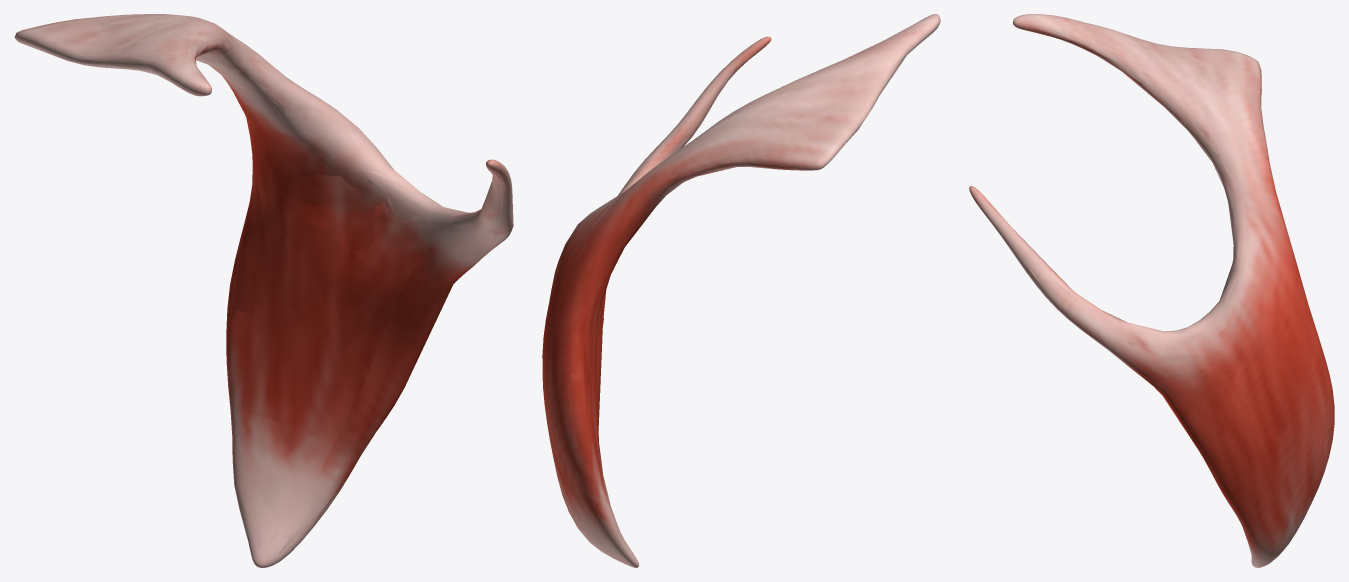
The model's file is L Gluteus Superficialis.fbx.
3 renders of one model, left to right at view 1: azimuth 30°, elevation 25°; view 2: azimuth 150°, elevation 25°; view 3: azimuth 270°, elevation 25°, orthographic. The views are drawn at different scales.
Parts seen in each view (by area): view 1: L Gluteus Superficialis, L Gluteus Superficialis low; view 2: L Gluteus Superficialis, L Gluteus Superficialis low; view 3: L Gluteus Superficialis, L Gluteus Superficialis low.
Part boxes in pixels (x1,y1,x2,y2): L Gluteus Superficialis: (14, 14, 513, 567); L Gluteus Superficialis low: (15, 18, 513, 554); L Gluteus Superficialis: (542, 14, 940, 567); L Gluteus Superficialis low: (544, 14, 938, 560); L Gluteus Superficialis: (969, 14, 1334, 567); L Gluteus Superficialis low: (989, 19, 1332, 566).
Bounding box in the file's own units: 26.13 × 43.06 × 30.36.
